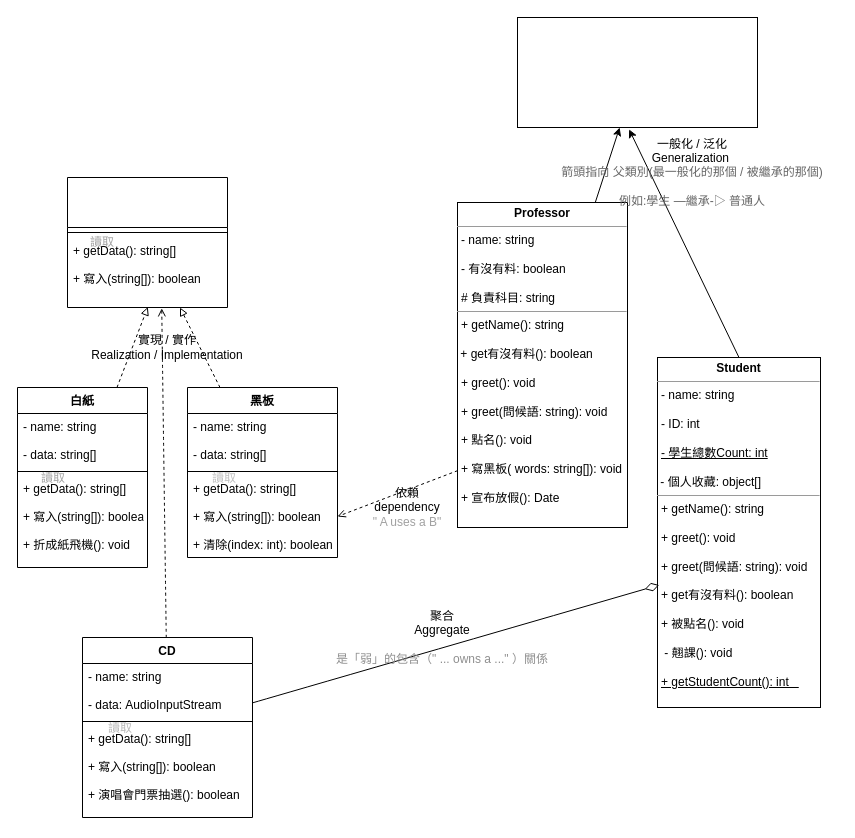
Some shapes in this 855 by 838 pixel diagram are drawn without their labels. The shapes that lost their labels are listed below. From the top down, each one's box as (x1, y1, x2, y2) in pixels, then its label:
(516, 16, 758, 128): Person - name: string + getName(): string + greet(): void
(66, 176, 228, 308): «interface» 知識承載物
